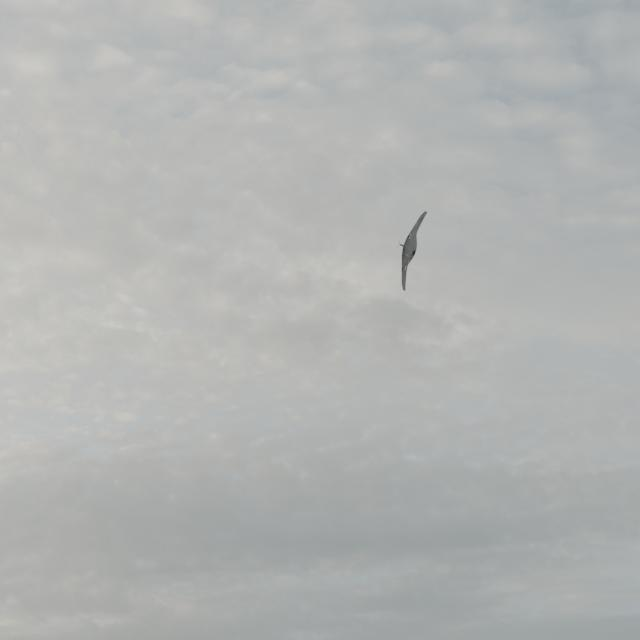Airaplan: (397, 211, 428, 291)
